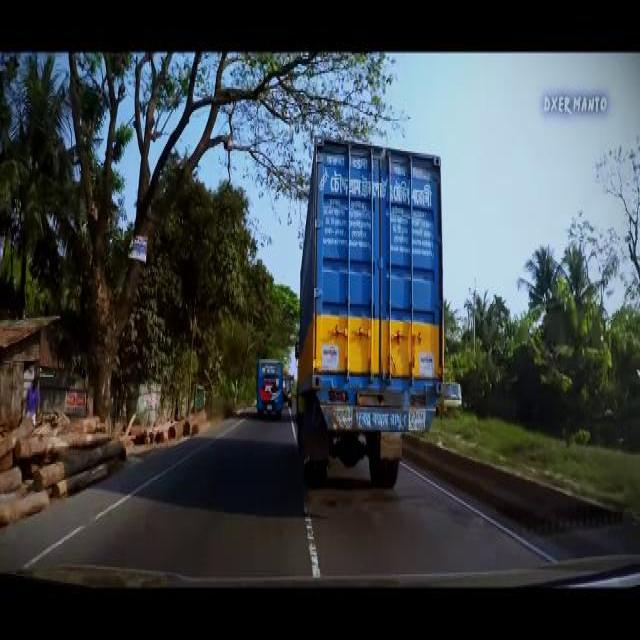bus: (254, 356, 284, 423)
pickup: (441, 377, 462, 416)
truck: (293, 132, 445, 494)
